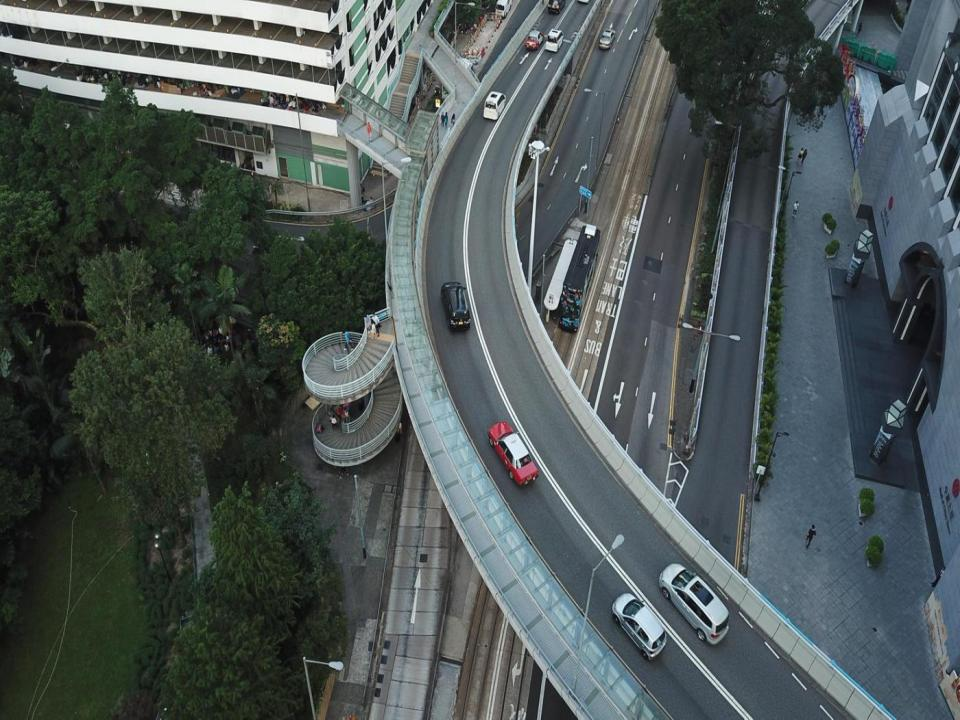bus: (559, 222, 601, 333)
car: (659, 563, 731, 645), (611, 591, 667, 660), (488, 419, 537, 484), (438, 280, 470, 330), (524, 28, 543, 50), (600, 28, 614, 50), (548, 0, 566, 13)
van: (482, 90, 504, 119), (546, 28, 562, 51), (495, 1, 512, 17)
